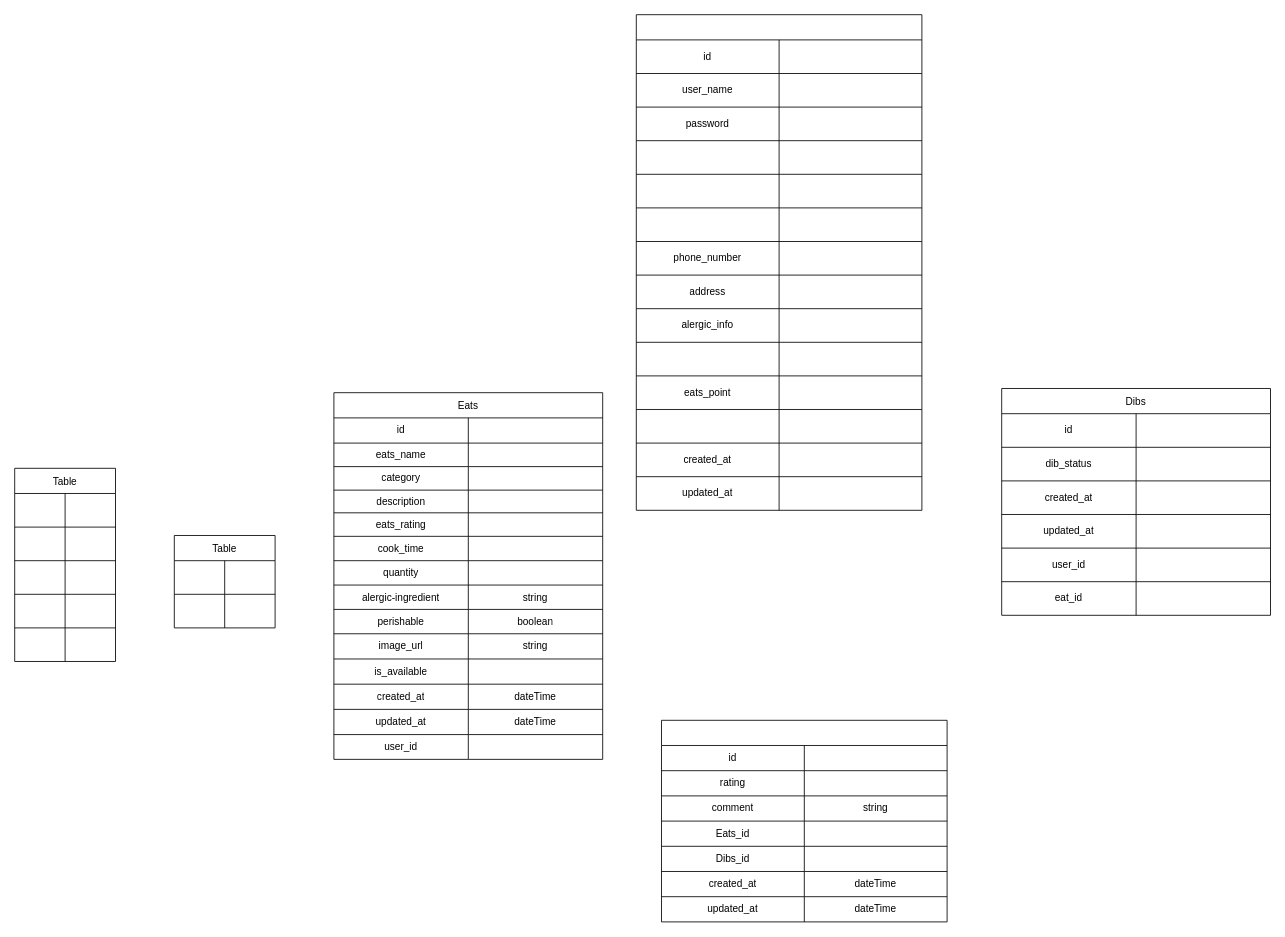
Some shapes in this 1285 by 937 pixel diagram are drawn without their labels. Each missing label, with the box of its shape:
Reviews: (661, 719, 947, 922)
Users: (635, 14, 922, 510)
